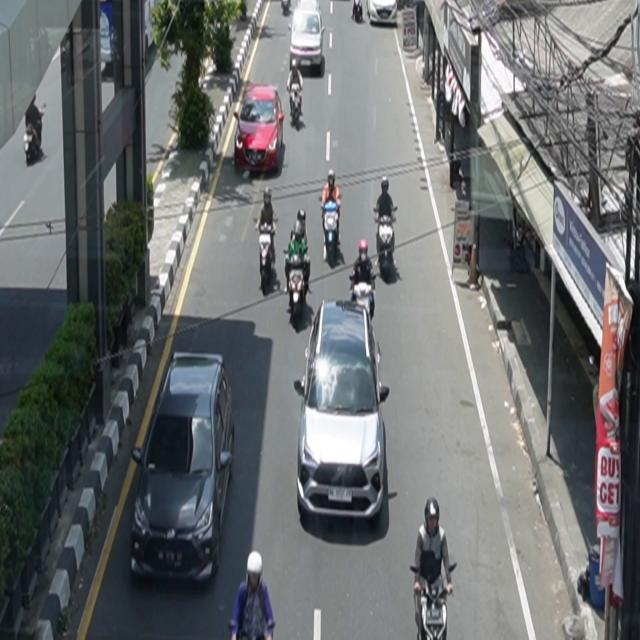car: (131, 351, 236, 587), (295, 299, 391, 523), (234, 83, 285, 176)
